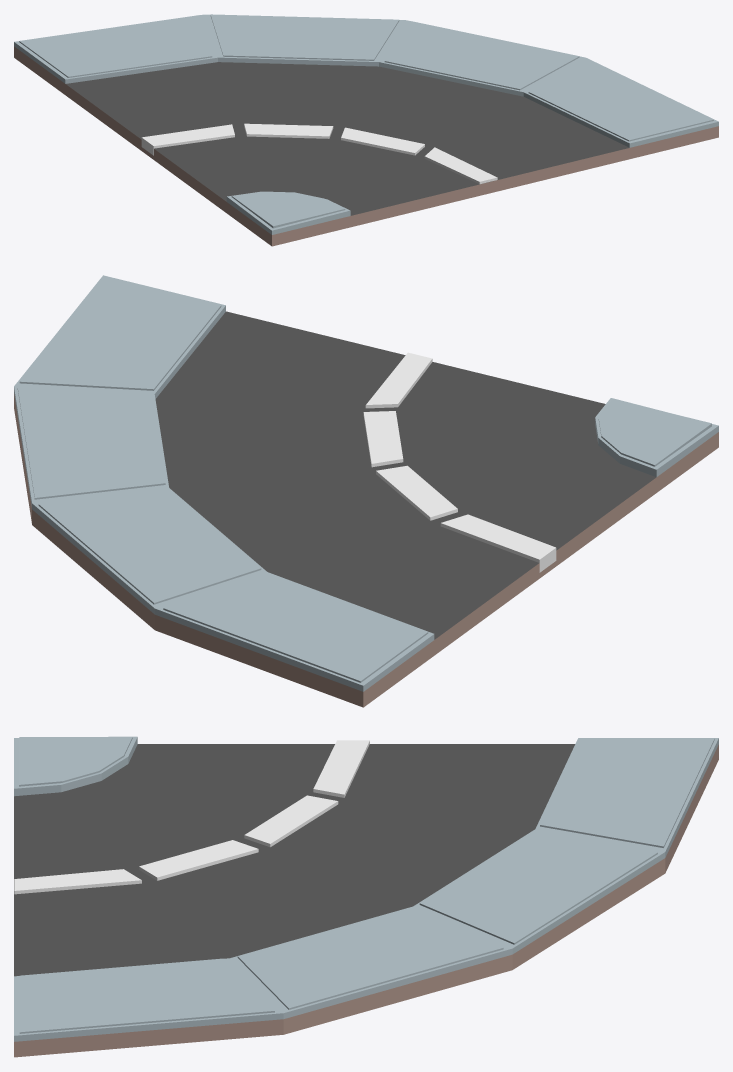
Rendered from Curved_road.glb.
The picture shows the model from 3 angles, top to bottom: view 1: azimuth 30°, elevation 25°; view 2: azimuth 150°, elevation 25°; view 3: azimuth 270°, elevation 25°; orthographic projection. The views are drawn at different scales.
Parts seen in each view (by area): view 1: Circle.002_Circle.011; view 2: Circle.002_Circle.011; view 3: Circle.002_Circle.011.
Part boxes in pixels (x1,y1,x2,y2): Circle.002_Circle.011: [14, 14, 718, 246]; Circle.002_Circle.011: [14, 275, 718, 707]; Circle.002_Circle.011: [14, 736, 718, 1057].
Size of the model in its own units: 20.01 by 0.7734 by 20.
